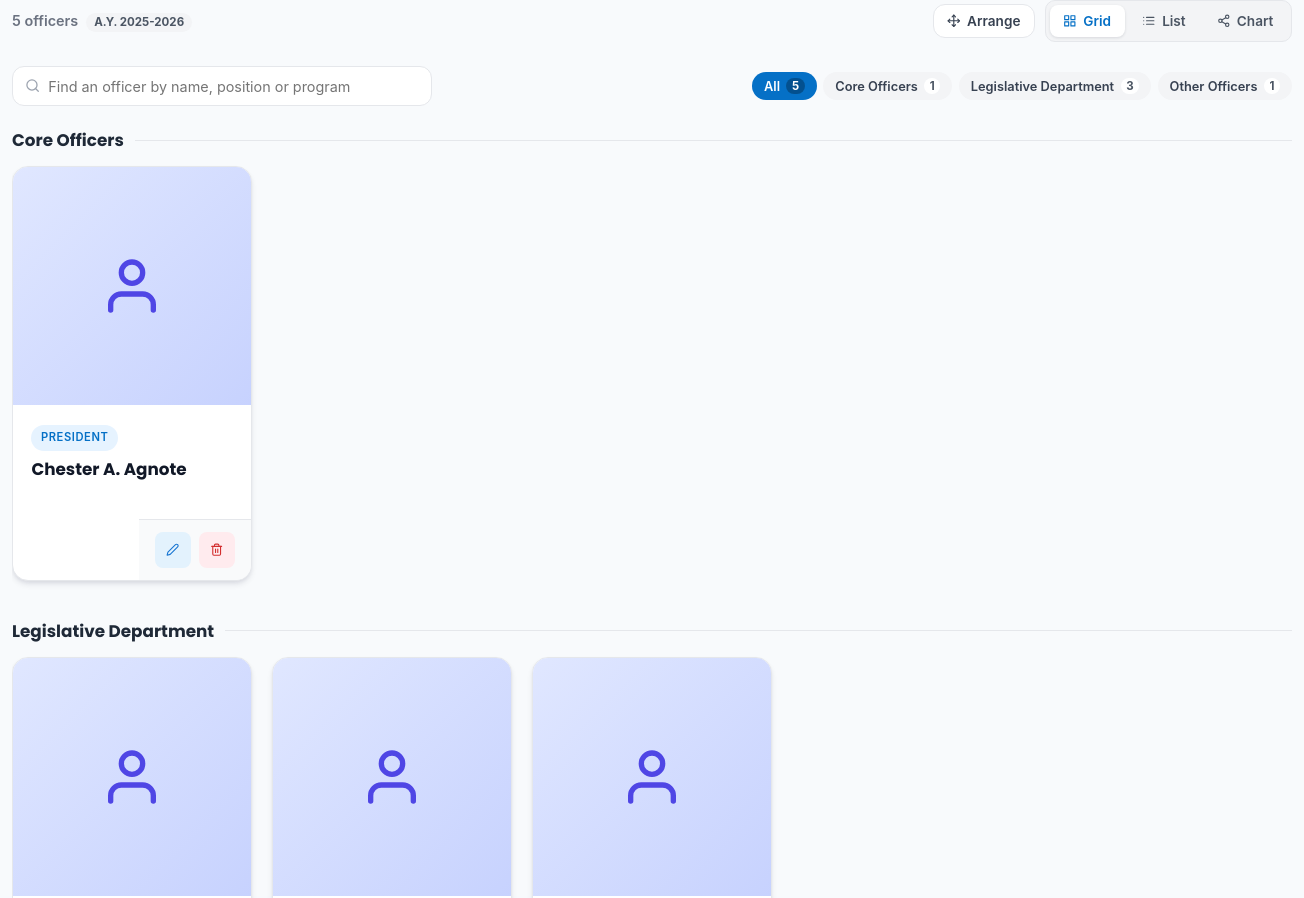
Scenario: admin controls › will not move the first officer up or the last one down
Click the button with class "officer-arrange-btn" at (984, 21), box [932, 4, 1035, 38]
(page scrolled)
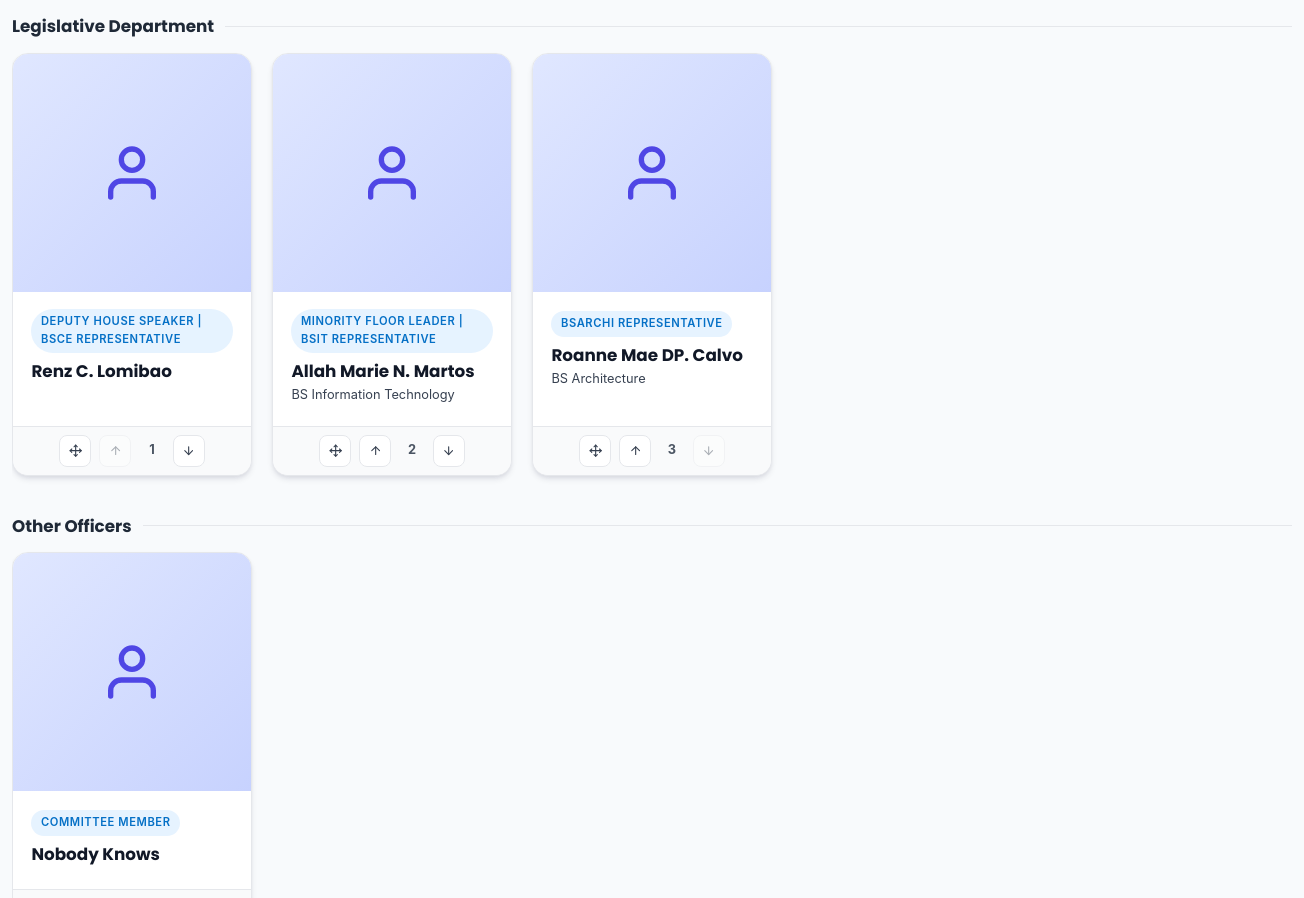
Check: the button named "Move Roanne Mae DP. Calvo down" is disabled, box [693, 435, 725, 467]
Check: the button named "Move Renz C. Lomibao up" is disabled, box [99, 435, 131, 467]
